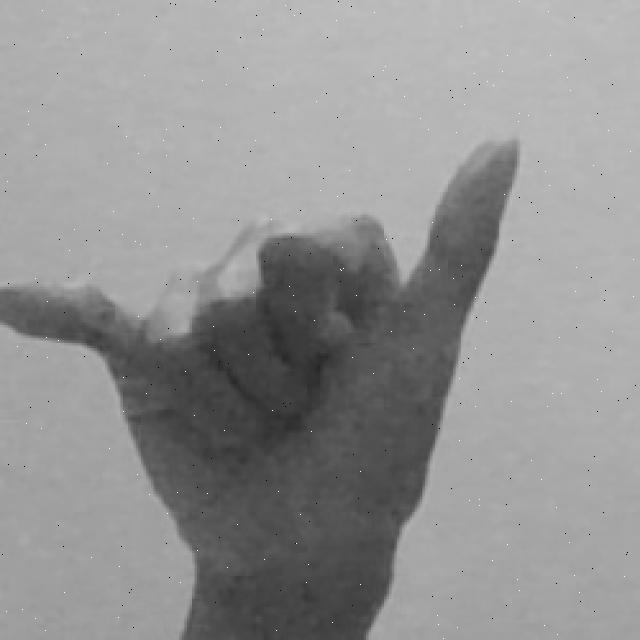Y: (0, 122, 527, 640)
